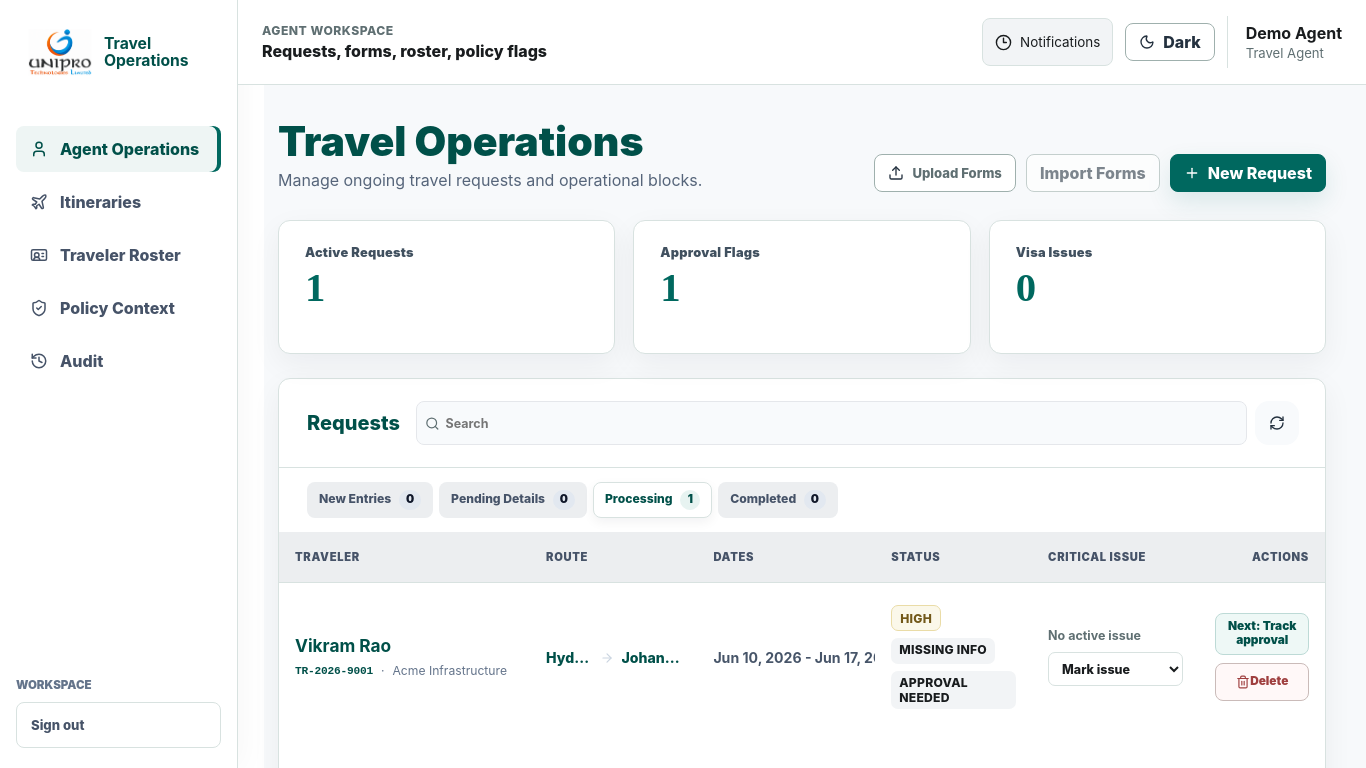
Test: AI Corporate Travel Planning Assistant MVP › keeps loaded request context compact when source fields are duplicated
The image size is (1366, 768).
Click the button with aria-label "TR-2026-9001": (1262, 634) [1216, 614, 1309, 655]
(page scrolled)
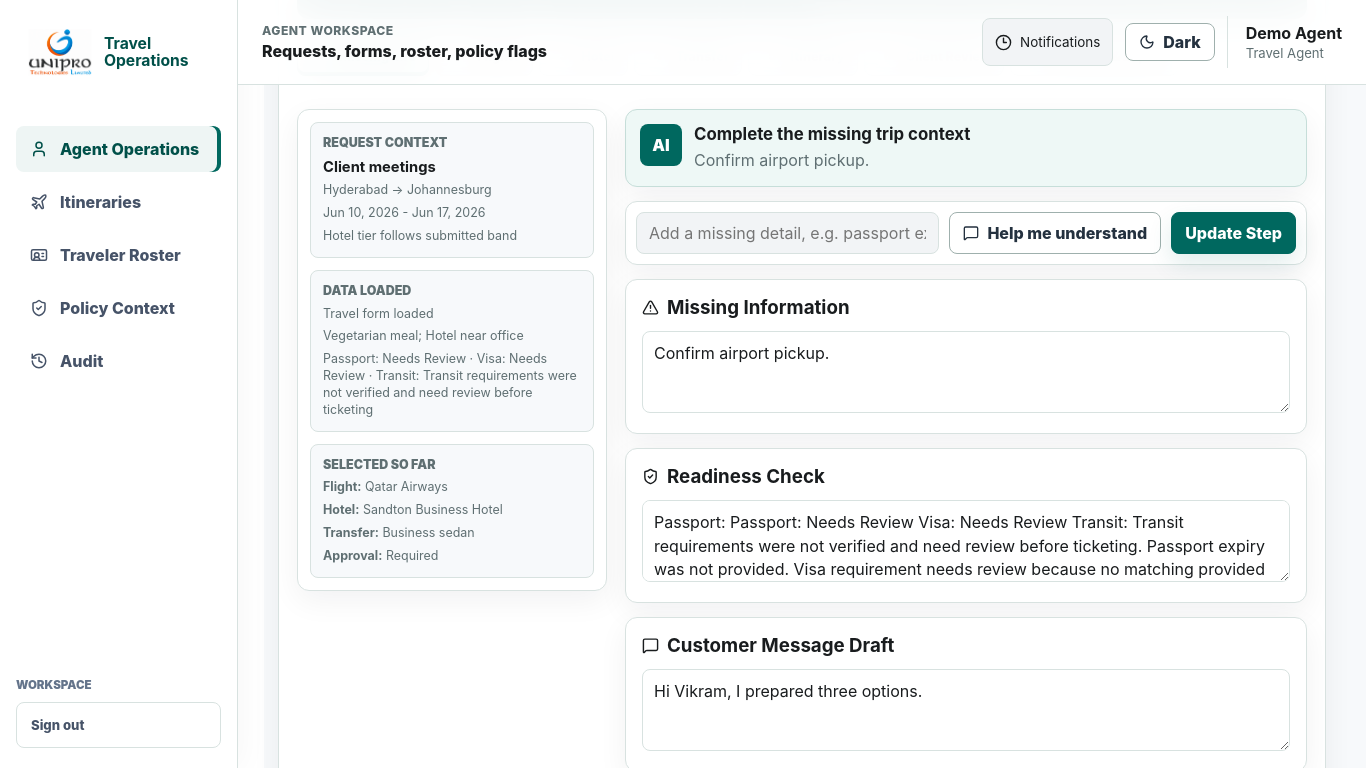
Expected: the text "Vegetarian meal; Hotel near office" is shown, [323, 328, 524, 343]
Expected: the text "Passport: Needs Review · Visa: Needs Review · Transit: Transit requirements were not verified and need review before tic" is shown, [323, 351, 577, 417]
